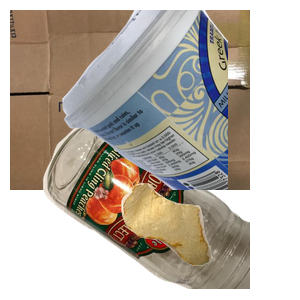cardboard: (10, 10, 250, 190)
glass: (41, 120, 281, 300)
plastic: (60, 10, 300, 190)
trash: (119, 181, 300, 300)
